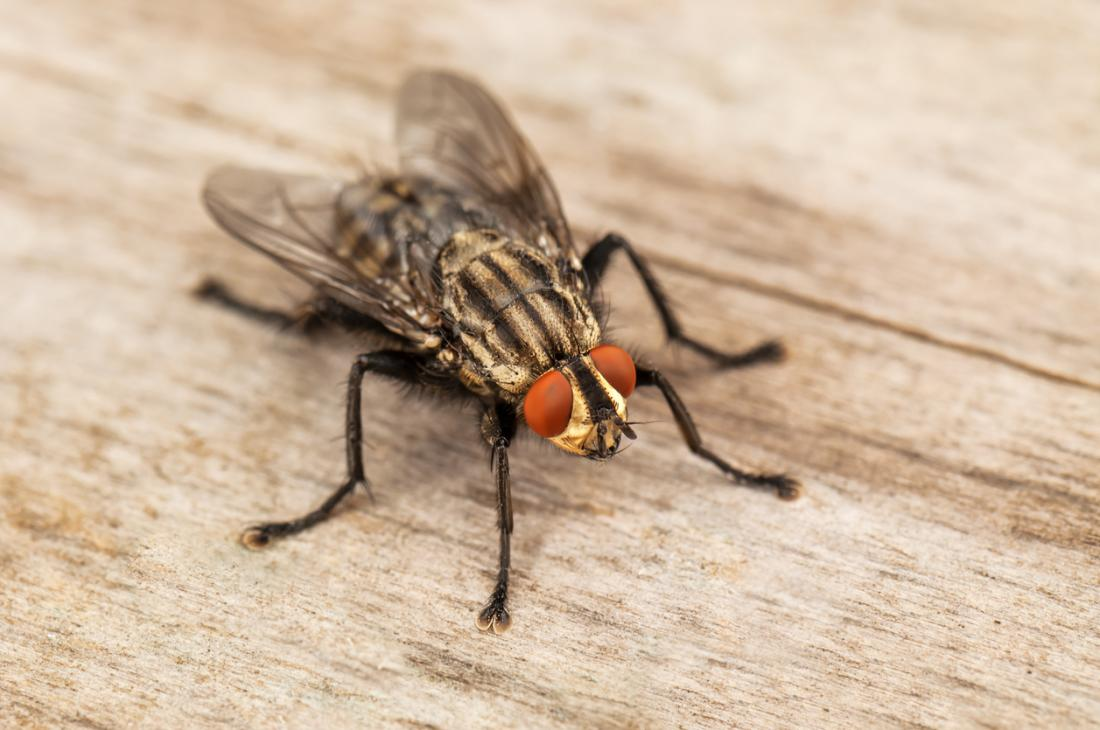house fly: (184, 52, 814, 636)
